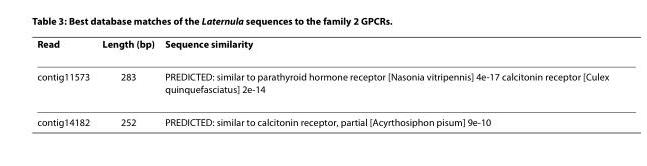table: (36, 36, 608, 127)
table column: (159, 36, 608, 127), (95, 36, 159, 127), (36, 36, 95, 127)
table column header: (36, 36, 608, 59)
table row: (36, 59, 608, 104), (36, 36, 608, 59), (36, 104, 608, 127)
